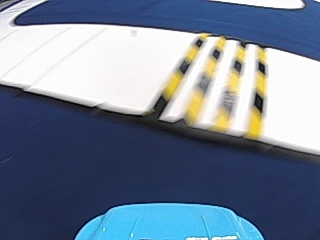bump: (158, 33, 270, 135)
